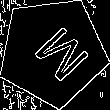M_SW: (19, 17, 86, 86)
